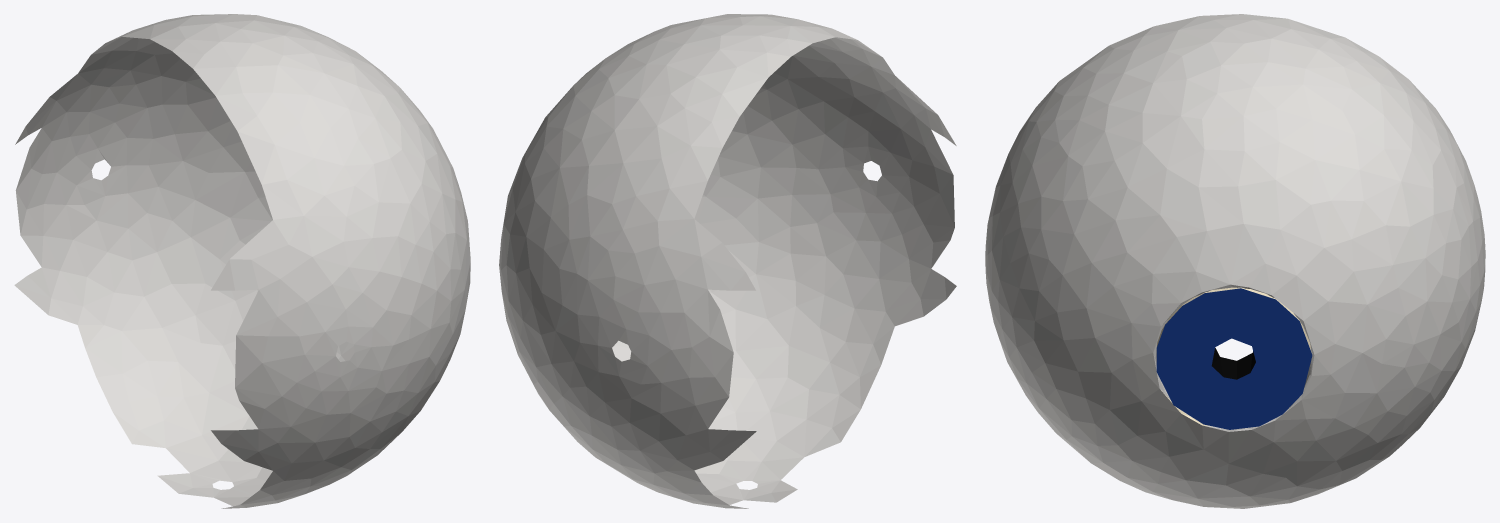
Rendered from flobi-eye-ball.dae.
3 renders of one model, left to right at view 1: azimuth 30°, elevation 25°; view 2: azimuth 150°, elevation 25°; view 3: azimuth 270°, elevation 25°, orthographic.
Visible parts, largest first — view 1: v_mask_head_back_003; view 2: v_mask_head_back_003; view 3: v_mask_head_back_003.
Part boxes in pixels (x1,y1,x2,y2): v_mask_head_back_003: [14, 14, 470, 508]; v_mask_head_back_003: [499, 14, 956, 508]; v_mask_head_back_003: [985, 14, 1485, 508].
Size of the model in its own units: 0.3315 by 0.4499 by 0.4499.
